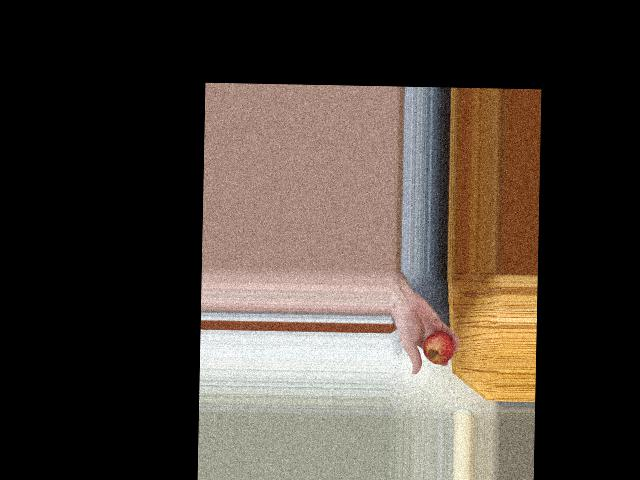apple: (420, 328, 454, 365)
